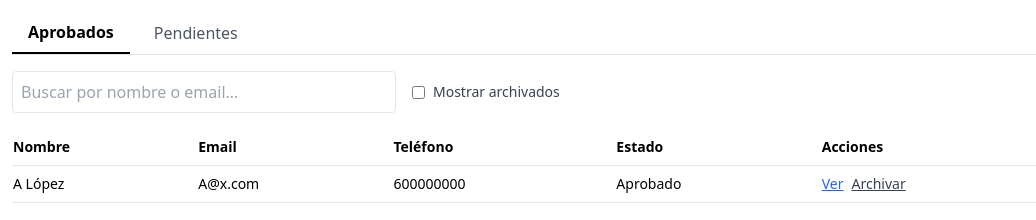
Test: AgendaTabs › toggle "Mostrar archivados" reveals archived workers in current tab
The image size is (1036, 220).
Expected: the text "A López" is shown, [12,166,197,202]
Expected: the text "B López" is not shown
Click the checkbox labelled "Mostrar archivados". click: (418, 92)
box: [412,86,425,98]
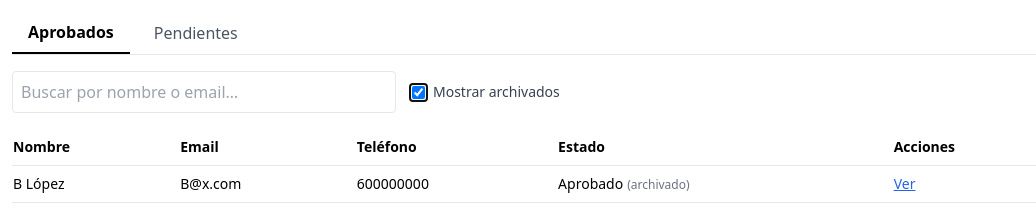
Result: the text "B López" is shown at [12,166,179,202]
